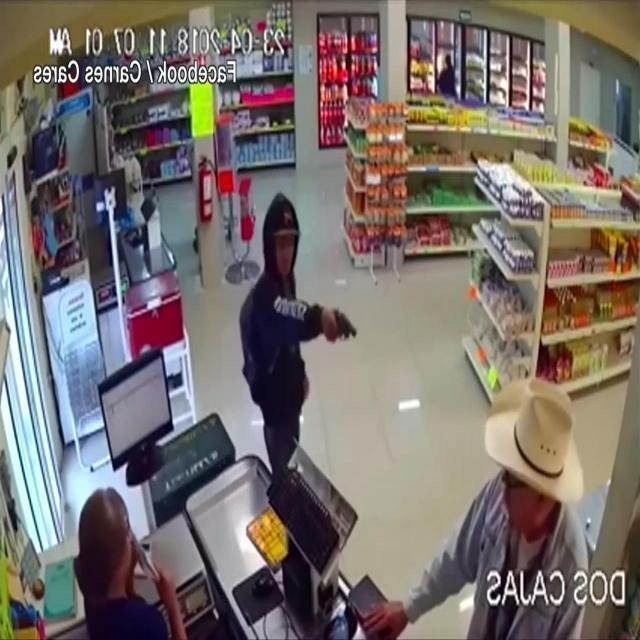pistol: (322, 302, 358, 345)
